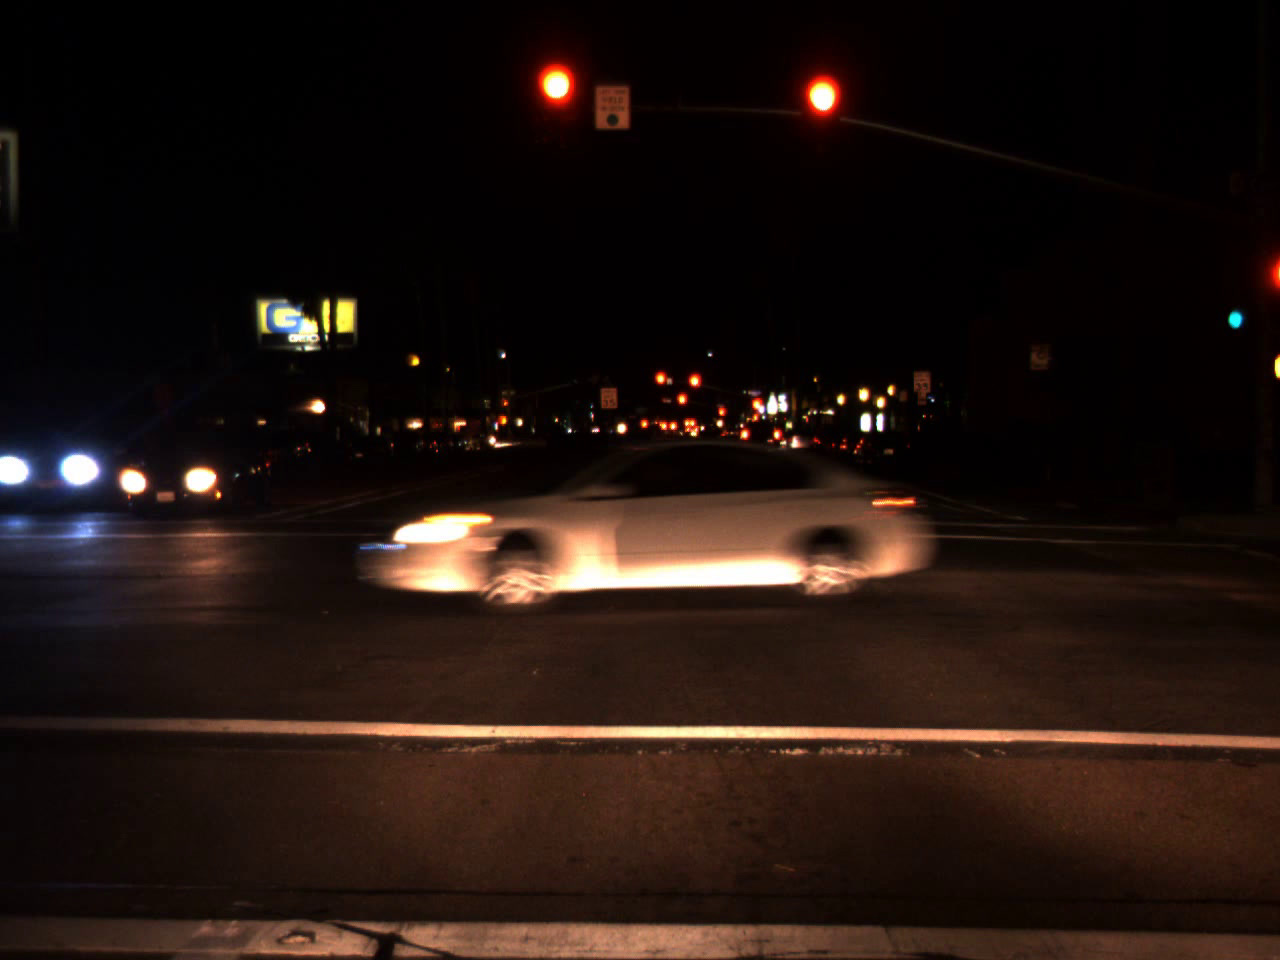stop: (538, 65, 578, 143), (801, 75, 841, 153), (686, 371, 702, 403), (653, 370, 666, 399), (675, 391, 688, 418), (750, 396, 763, 414), (717, 406, 727, 427), (503, 398, 509, 414)
